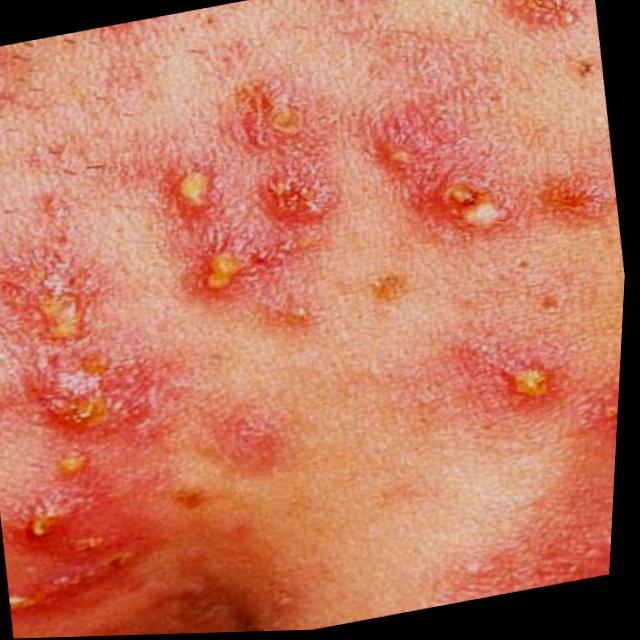pustule: (80, 86, 540, 339), (0, 262, 139, 585), (469, 355, 622, 430)
